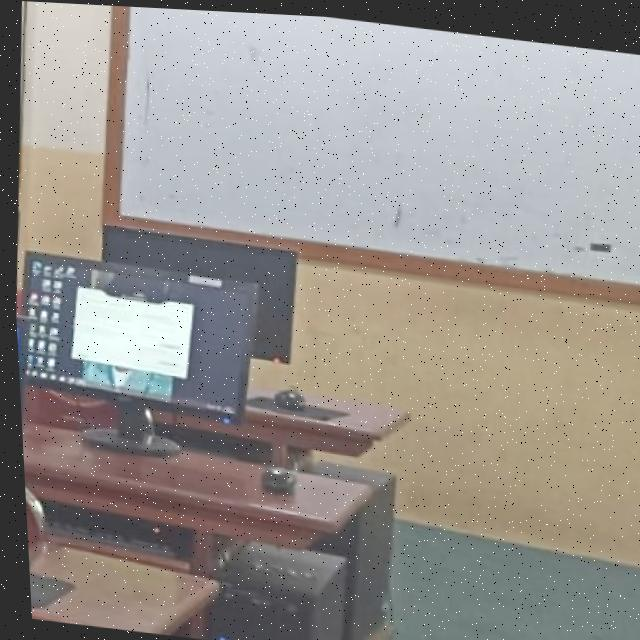offscreen: (102, 225, 292, 360)
onscreen: (22, 253, 252, 417)
